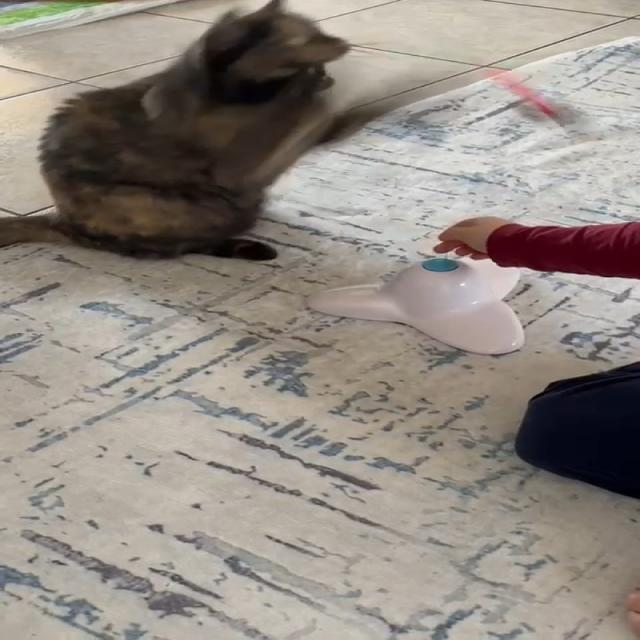authorized: (0, 0, 355, 261)
